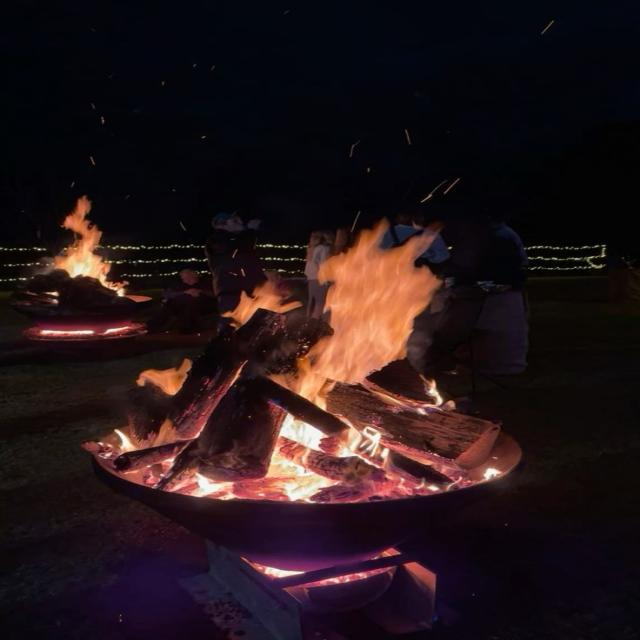fire: (270, 221, 445, 502), (41, 196, 127, 299), (223, 278, 301, 326), (136, 357, 191, 396), (174, 471, 239, 500)
